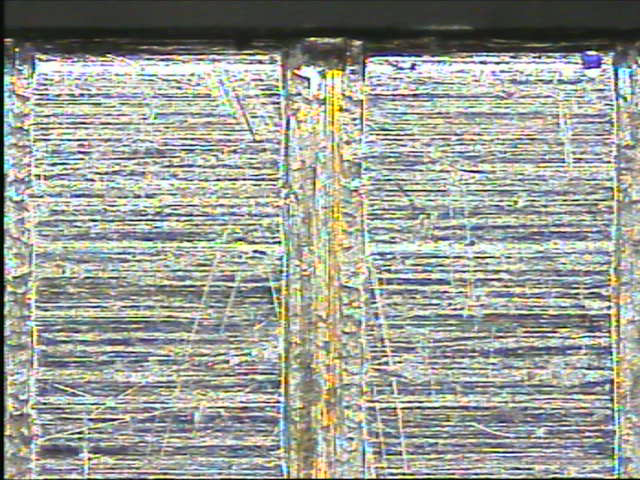line: (278, 34, 370, 468)
